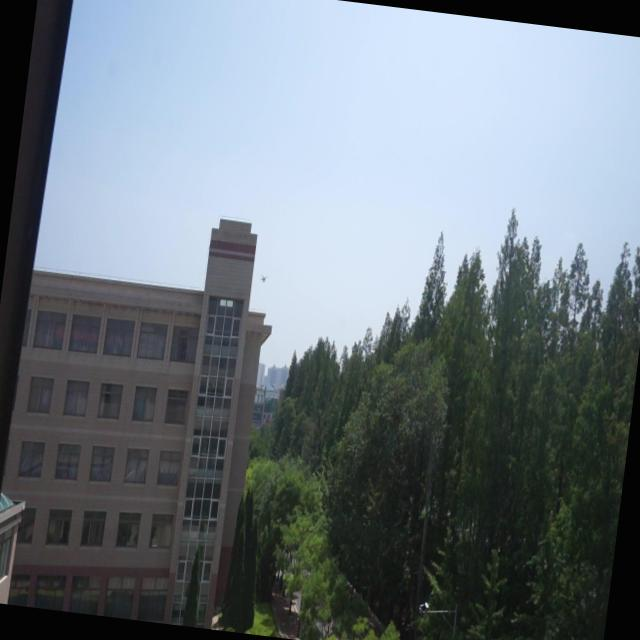drone: (258, 266, 268, 288)
